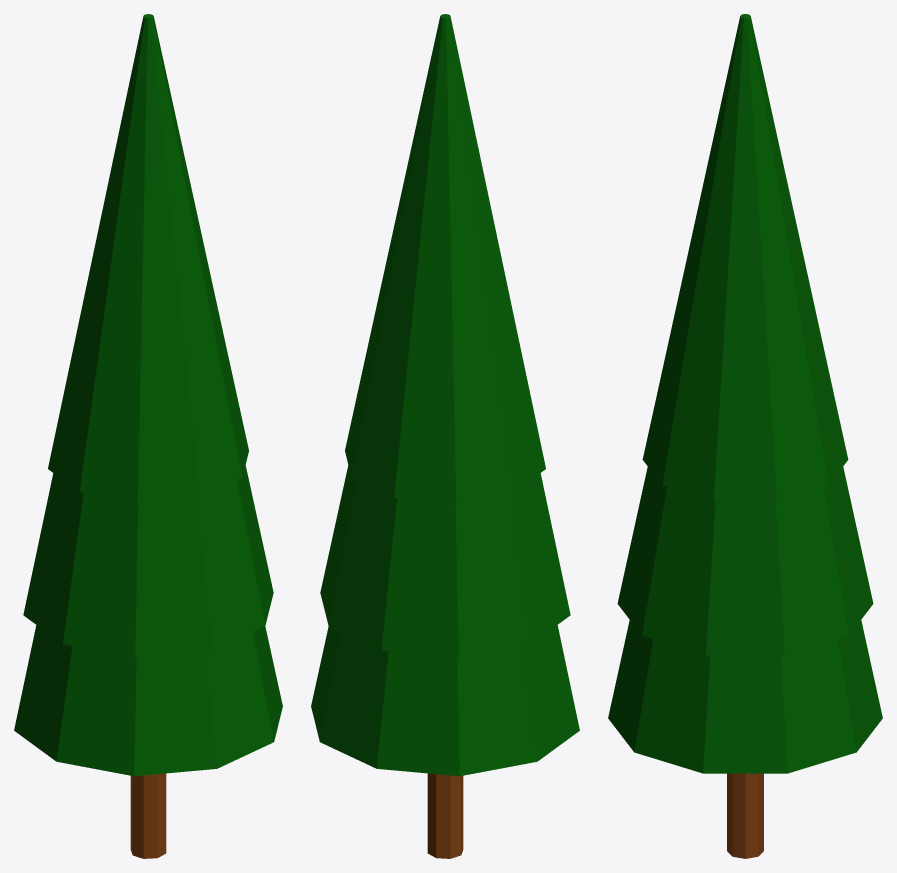
The model's file is arbol3.obj.
3 views of the same model, side by side, from view 1: azimuth 30°, elevation 25°; view 2: azimuth 150°, elevation 25°; view 3: azimuth 270°, elevation 25° (orthographic).
Parts seen in each view (by area): view 1: Copa4, 5_Cylinder_011; view 2: Copa4, 5_Cylinder_011; view 3: Copa4, 5_Cylinder_011.
Part boxes in pixels (<box>): Copa4: <box>14,14,282,776</box>; 5_Cylinder_011: <box>130,773,166,858</box>; Copa4: <box>311,14,579,776</box>; 5_Cylinder_011: <box>427,773,463,858</box>; Copa4: <box>608,14,882,773</box>; 5_Cylinder_011: <box>727,773,763,858</box>.
Size of the model in its own units: 1.9 by 6.7 by 2.
